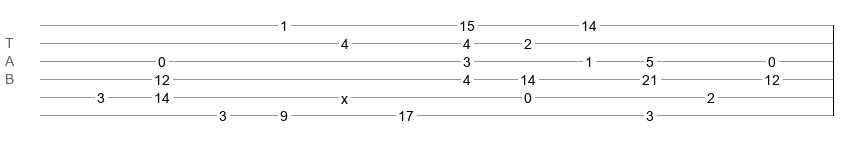0: (158, 54, 166, 64), (524, 90, 532, 100), (768, 54, 776, 64)
1: (280, 18, 288, 28), (585, 54, 593, 64)
12: (154, 72, 170, 82), (764, 72, 780, 82)
14: (154, 90, 170, 100), (520, 72, 536, 82), (581, 18, 597, 28)
15: (459, 18, 475, 28)
17: (398, 108, 414, 118)
2: (524, 36, 532, 46), (707, 90, 715, 100)
21: (642, 72, 658, 82)
3: (97, 90, 105, 100), (219, 108, 227, 118), (463, 54, 471, 64), (646, 108, 654, 118)
4: (341, 36, 349, 46), (463, 36, 471, 46), (463, 72, 471, 82)
5: (646, 54, 654, 64)
9: (280, 108, 288, 118)
x: (341, 91, 348, 99)
